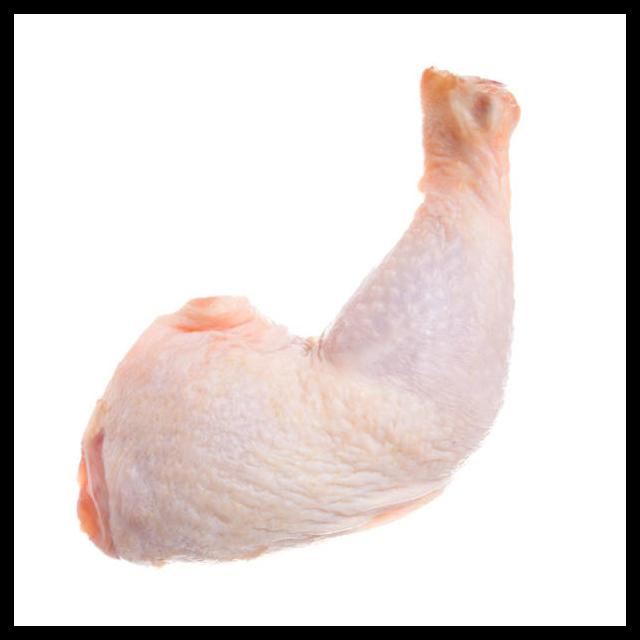chicken: (75, 64, 521, 567)
